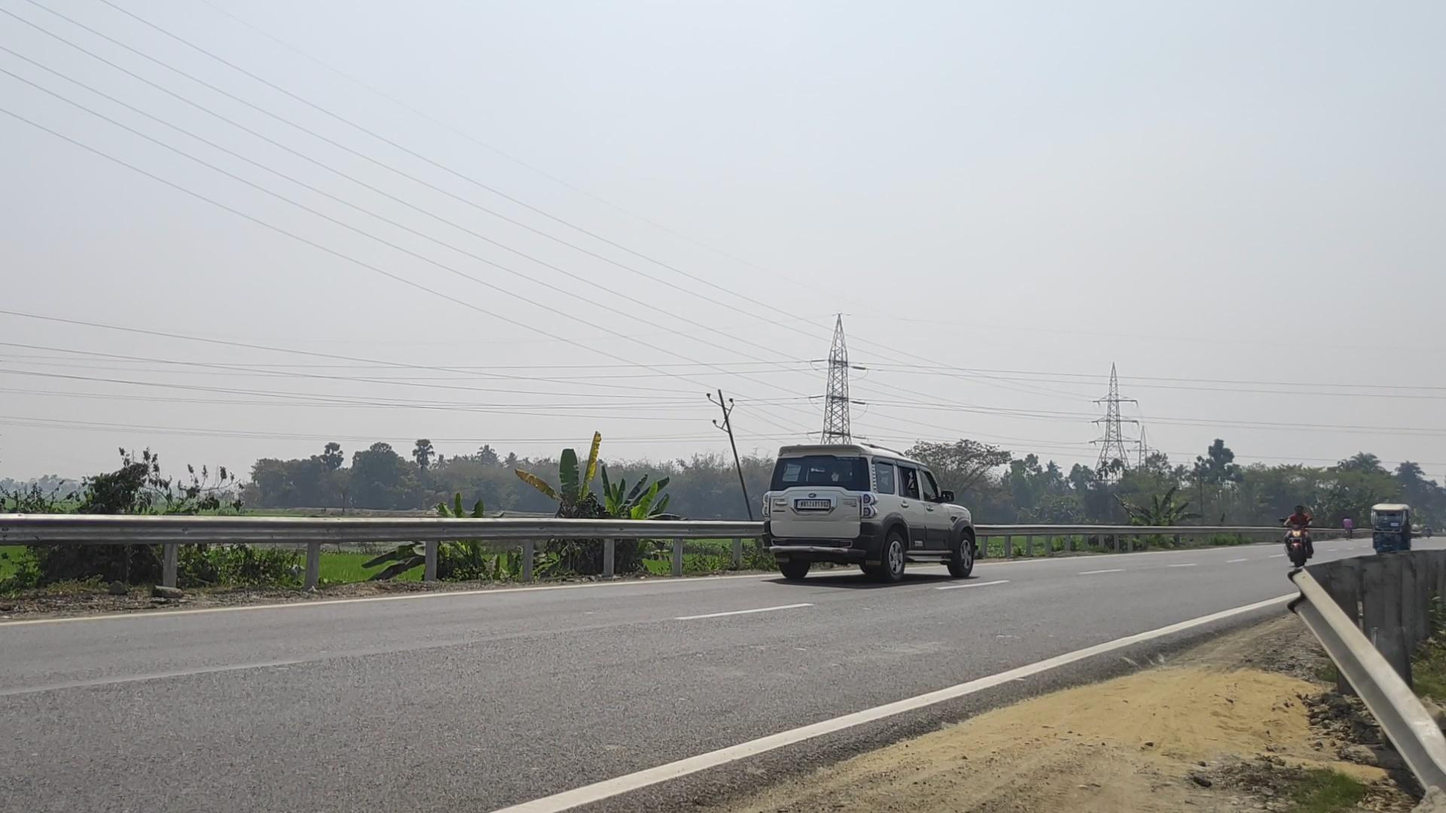Auto: (1370, 502, 1412, 558)
bike: (1279, 505, 1314, 568)
car: (761, 443, 979, 584)
